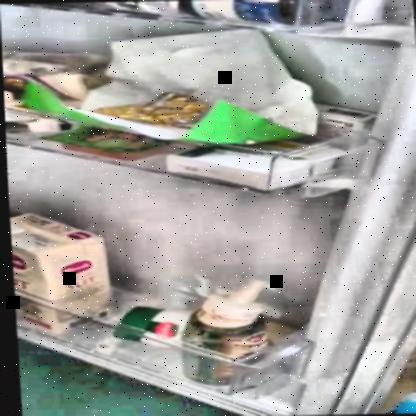milk: (7, 212, 106, 323)
